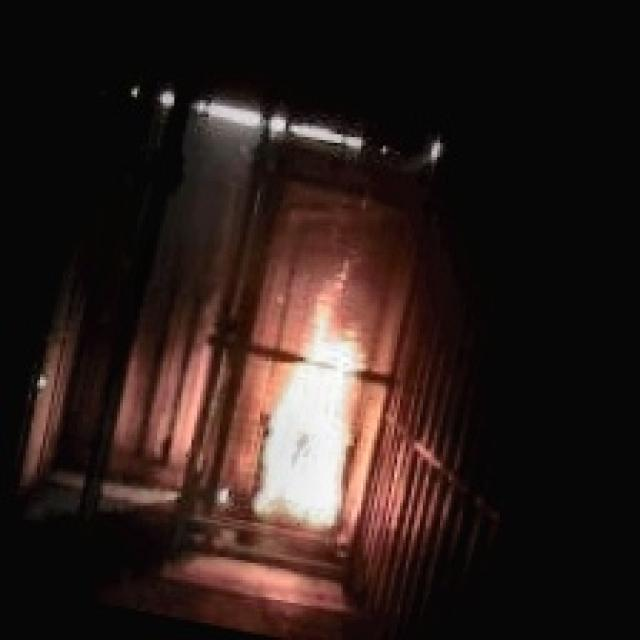fire: (228, 280, 403, 554)
